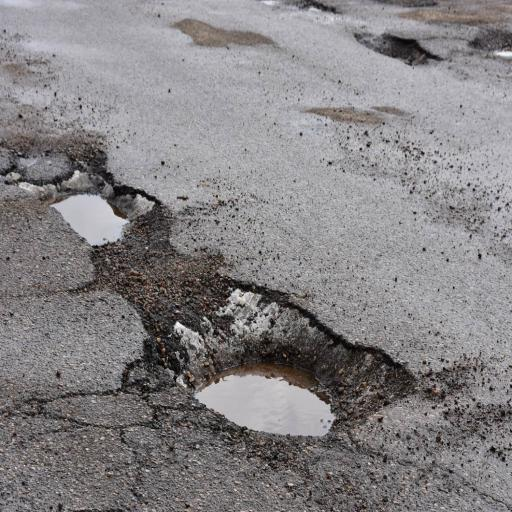pothole: (36, 118, 365, 445)
